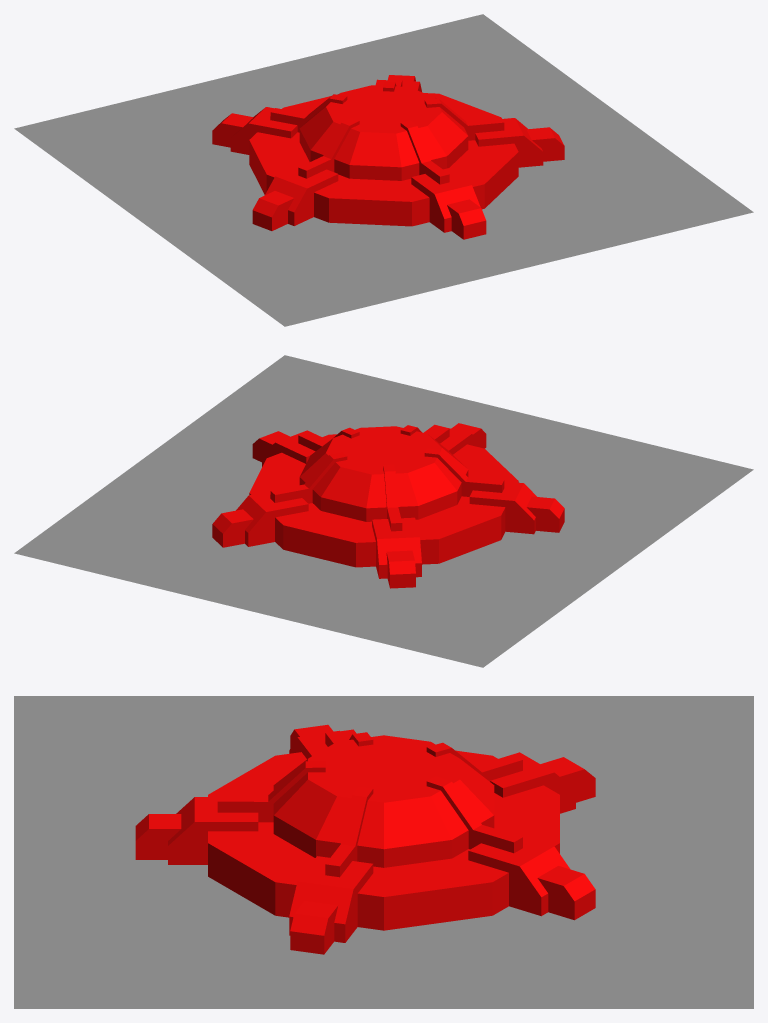
File: Stand02.FBX
3 renders of one model, top to bottom at view 1: azimuth 30°, elevation 25°; view 2: azimuth 150°, elevation 25°; view 3: azimuth 270°, elevation 25°, orthographic. The views are drawn at different scales.
Parts seen in each view (by area): view 1: Plane, Stand02; view 2: Plane, Stand02; view 3: Plane, Stand02.
Boxes of the visible parts, x1,y1,x2,y2 form: Plane: [14, 14, 753, 326]; Stand02: [212, 75, 564, 239]; Plane: [14, 355, 753, 667]; Stand02: [212, 423, 564, 588]; Plane: [14, 696, 753, 1008]; Stand02: [135, 724, 595, 954].
Bounding box in the file's own units: 2000 × 263 × 2000.
